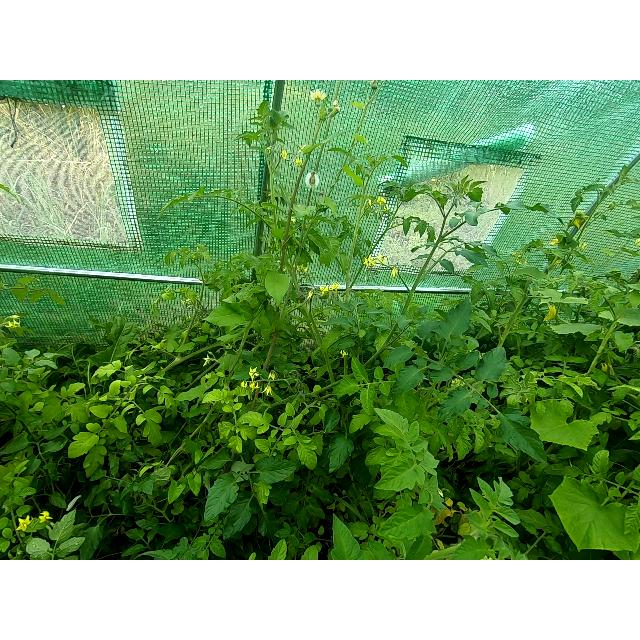Flowers: (566, 210, 588, 230), (544, 306, 560, 322), (309, 91, 325, 107), (18, 515, 32, 533), (4, 314, 22, 328), (511, 252, 529, 266), (37, 510, 53, 524), (548, 235, 564, 248), (360, 255, 376, 268), (248, 366, 262, 380), (204, 354, 218, 366), (262, 382, 274, 396), (328, 100, 340, 114), (374, 253, 386, 264), (268, 369, 278, 381), (250, 381, 260, 393), (318, 284, 328, 296), (552, 258, 566, 266), (389, 266, 398, 278), (240, 380, 250, 390), (182, 298, 192, 308), (374, 196, 386, 204), (280, 148, 288, 160), (339, 349, 349, 358), (578, 242, 588, 250), (330, 282, 340, 290), (294, 157, 302, 167), (298, 144, 306, 154), (382, 205, 392, 212), (365, 198, 373, 206), (266, 145, 274, 153)
